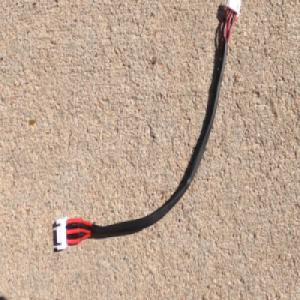Wire: (53, 0, 241, 254)
